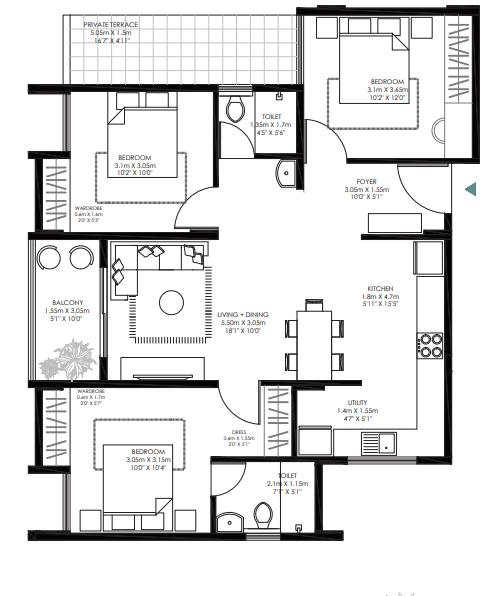Balcony: (31, 238, 103, 382)
Bed: (335, 10, 410, 101), (108, 90, 178, 177), (105, 444, 174, 531)
Bedroom: (72, 386, 210, 537), (305, 17, 445, 161), (72, 95, 216, 232)
Dining Room: (258, 234, 365, 380)
Dining table: (270, 290, 356, 382)
Foyer: (221, 157, 455, 241)
Kitchen: (362, 240, 446, 384)
Living Room: (114, 243, 260, 378)
Sofa: (112, 241, 207, 269), (108, 240, 142, 293)
Terrace: (67, 16, 302, 84), (65, 15, 296, 83)
Wardrobe: (445, 20, 474, 158), (39, 158, 73, 232), (262, 386, 296, 458), (42, 392, 69, 466)
commode: (228, 95, 243, 122), (256, 505, 270, 528)
door: (399, 160, 455, 213), (301, 120, 353, 156), (214, 380, 261, 418), (175, 187, 215, 228), (208, 458, 246, 494)
dress: (212, 383, 290, 456)
sink: (361, 431, 395, 455), (215, 511, 244, 535), (277, 162, 296, 186)
stove: (417, 334, 442, 359)
toilet: (209, 459, 313, 538), (220, 92, 295, 157)
tv: (123, 360, 205, 377)
utility: (296, 387, 440, 461)
